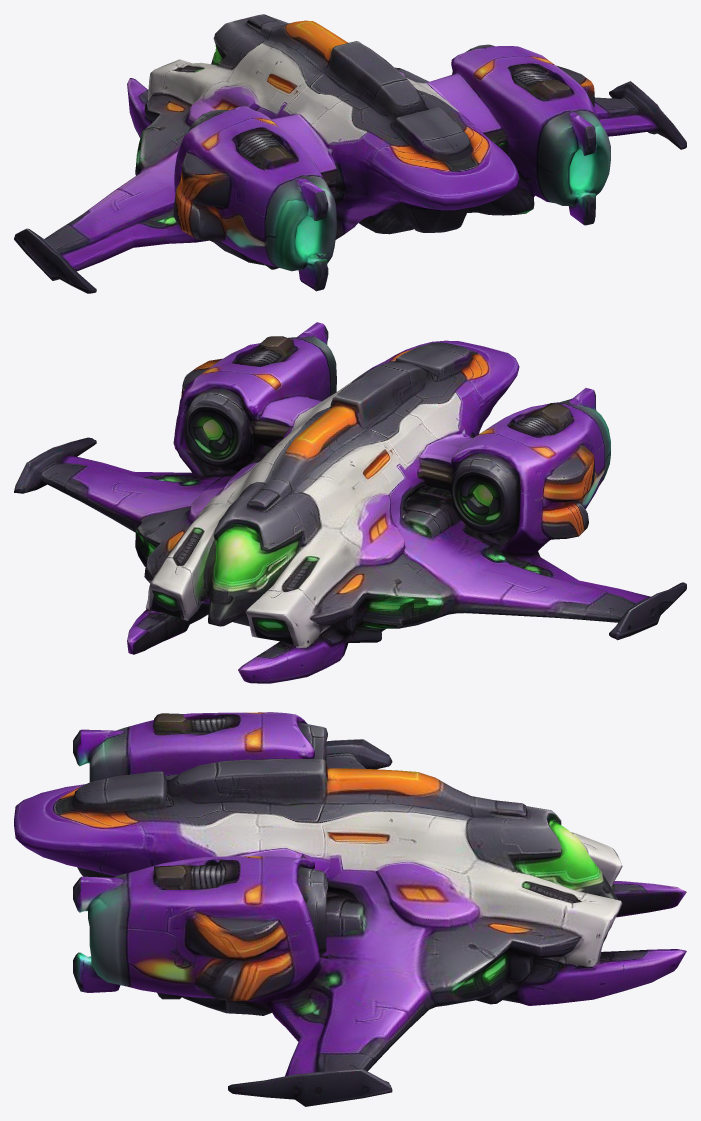
Rendered from maelstrom.glb.
3 renders of one model, top to bottom at view 1: azimuth 30°, elevation 25°; view 2: azimuth 150°, elevation 25°; view 3: azimuth 270°, elevation 25°, orthographic. The views are drawn at different scales.
Parts seen in each view (by area): view 1: Mesh_0.070; view 2: Mesh_0.070; view 3: Mesh_0.070.
Boxes of the visible parts, x1,y1,x2,y2 form: Mesh_0.070: (14,14,686,293); Mesh_0.070: (14,322,686,683); Mesh_0.070: (14,712,686,1106).
Size of the model in its own units: 1.91 by 0.5205 by 1.64.
Materials: 1 (1 with a texture image).
